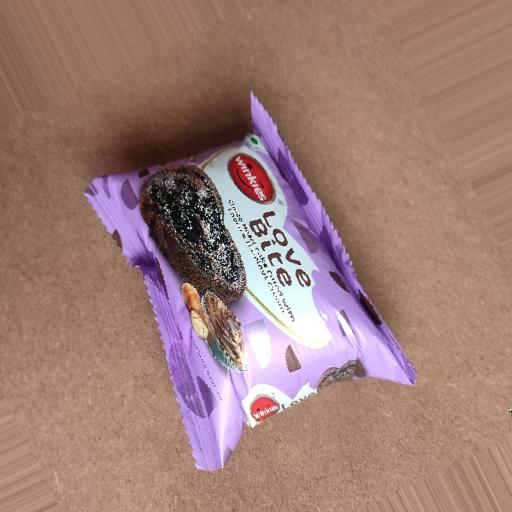Winkies Love Bite cake: (41, 109, 453, 487)
